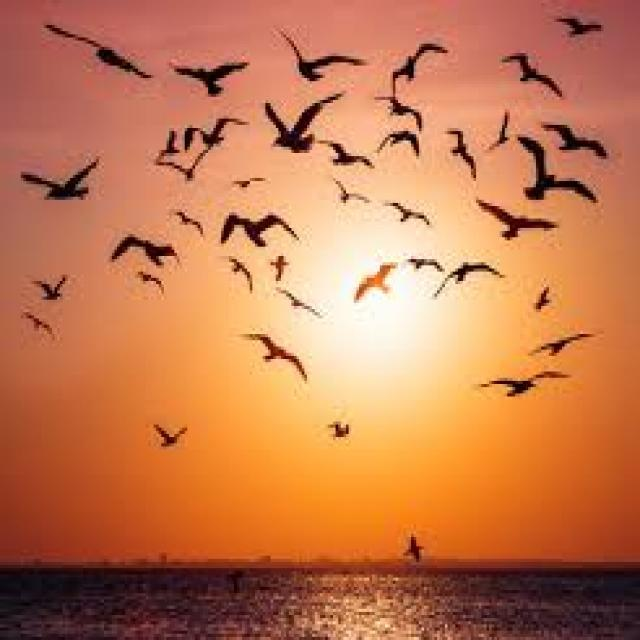bird: (38, 17, 152, 89), (0, 147, 107, 212), (509, 140, 594, 218), (464, 192, 566, 248), (165, 40, 259, 100), (246, 99, 345, 154), (236, 324, 314, 388), (478, 370, 576, 420), (380, 32, 456, 92), (212, 196, 301, 246), (269, 36, 389, 70), (493, 54, 574, 104), (8, 295, 68, 351), (546, 111, 612, 161), (437, 115, 487, 178), (24, 256, 76, 316), (522, 316, 600, 356), (272, 278, 337, 325), (106, 229, 184, 267), (180, 112, 252, 153), (437, 250, 510, 288), (322, 137, 382, 181), (139, 416, 204, 456), (344, 262, 408, 300), (380, 198, 448, 233), (550, 12, 610, 47), (225, 238, 259, 298), (148, 152, 216, 182), (366, 92, 429, 123), (126, 270, 176, 308), (256, 252, 319, 282), (322, 403, 366, 443), (377, 128, 424, 159), (526, 279, 560, 320), (328, 181, 370, 209), (158, 125, 184, 168), (222, 168, 272, 190), (168, 206, 199, 231)
